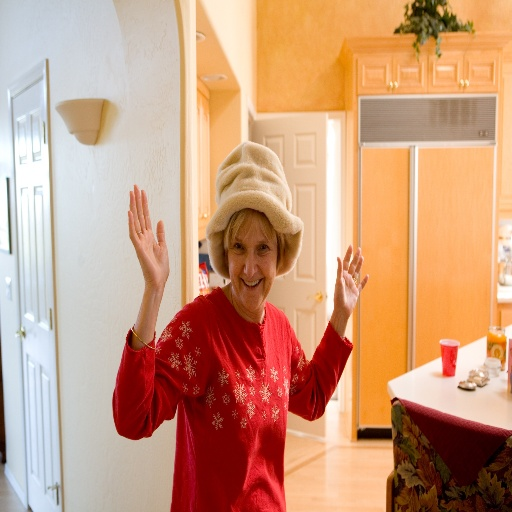hand: (127, 182, 169, 288), (333, 241, 369, 320)
